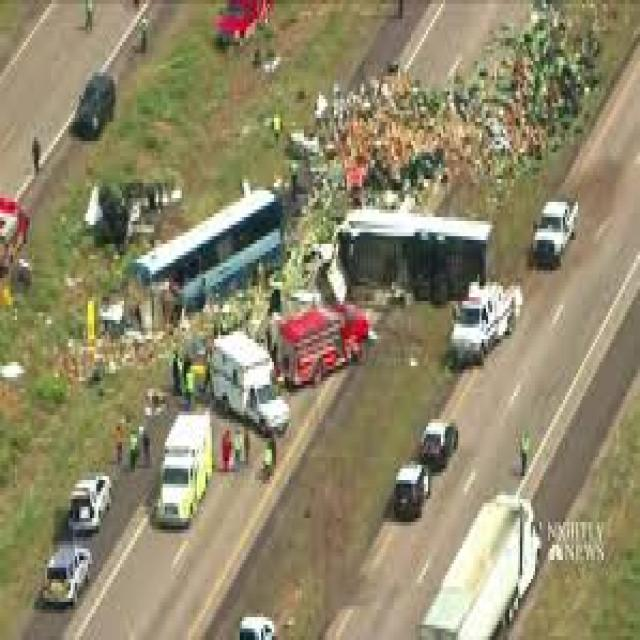accident: (317, 175, 517, 300)
